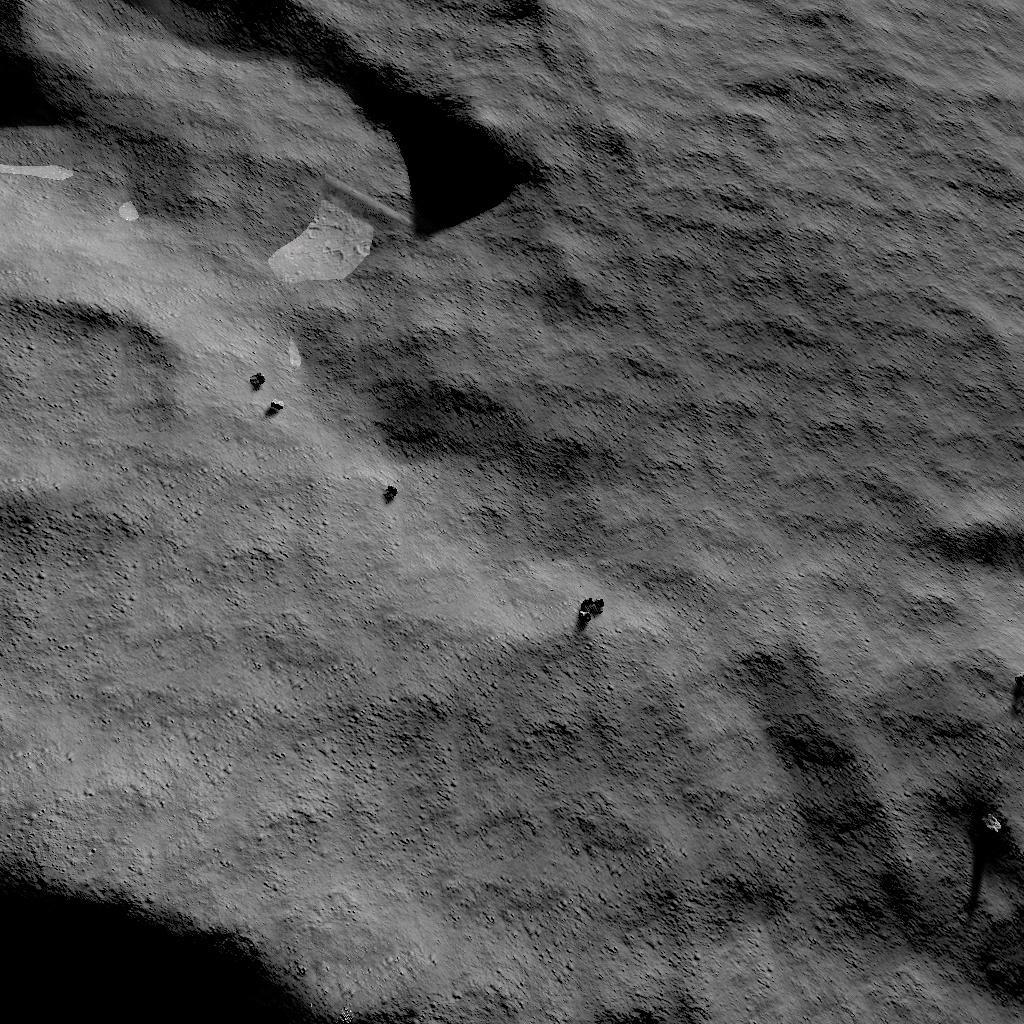Boulders: (259, 226, 378, 304)
Crater: (2, 0, 550, 220), (0, 300, 175, 548), (0, 889, 275, 1024)
Plan surface: (603, 0, 943, 1024), (0, 558, 554, 858)
